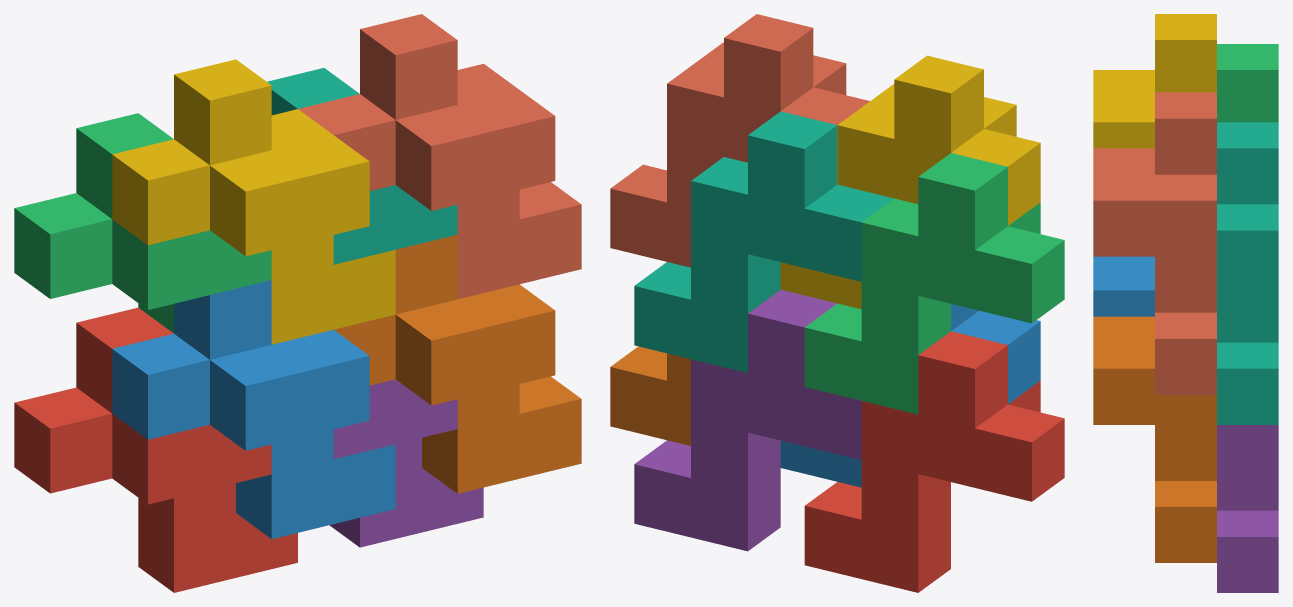
The model's file is tiling.obj.
The picture shows the model from 3 angles, left to right: view 1: azimuth 30°, elevation 25°; view 2: azimuth 150°, elevation 25°; view 3: azimuth 270°, elevation 25°; orthographic projection. The views are drawn at different scales.
Visible parts, largest first — view 1: copy_1_domain_4, copy_1_domain_8, copy_1_domain_2, copy_1_domain_6, copy_1_domain_1, copy_1_domain_3, copy_1_domain_5, copy_1_domain_7; view 2: copy_1_domain_1, copy_1_domain_3, copy_1_domain_7, copy_1_domain_5, copy_1_domain_8, copy_1_domain_4, copy_1_domain_6, copy_1_domain_2; view 3: copy_1_domain_8, copy_1_domain_7, copy_1_domain_6, copy_1_domain_5, copy_1_domain_4, copy_1_domain_3, copy_1_domain_2.
Part boxes in pixels (left/top/right/bottom): copy_1_domain_4: left=112, top=59, right=395, bottom=344; copy_1_domain_8: left=298, top=14, right=581, bottom=299; copy_1_domain_2: left=112, top=280, right=395, bottom=538; copy_1_domain_6: left=334, top=234, right=581, bottom=493; copy_1_domain_1: left=14, top=307, right=297, bottom=592; copy_1_domain_3: left=14, top=113, right=271, bottom=333; copy_1_domain_5: left=329, top=379, right=483, bottom=547; copy_1_domain_7: left=267, top=68, right=457, bottom=264; copy_1_domain_1: left=804, top=331, right=1064, bottom=592; copy_1_domain_3: left=804, top=153, right=1064, bottom=414; copy_1_domain_7: left=634, top=111, right=893, bottom=372; copy_1_domain_5: left=634, top=289, right=861, bottom=551; copy_1_domain_8: left=610, top=14, right=869, bottom=267; copy_1_domain_4: left=780, top=55, right=1040, bottom=309; copy_1_domain_6: left=610, top=346, right=690, bottom=445; copy_1_domain_2: left=780, top=304, right=1040, bottom=487; copy_1_domain_8: left=1093, top=92, right=1216, bottom=394; copy_1_domain_7: left=1217, top=122, right=1278, bottom=424; copy_1_domain_6: left=1093, top=316, right=1216, bottom=562; copy_1_domain_5: left=1217, top=425, right=1278, bottom=592; copy_1_domain_4: left=1093, top=14, right=1216, bottom=148; copy_1_domain_3: left=1217, top=44, right=1278, bottom=122; copy_1_domain_2: left=1093, top=256, right=1154, bottom=316.
Bounding box in the file's own units: 8 × 8 × 3.
